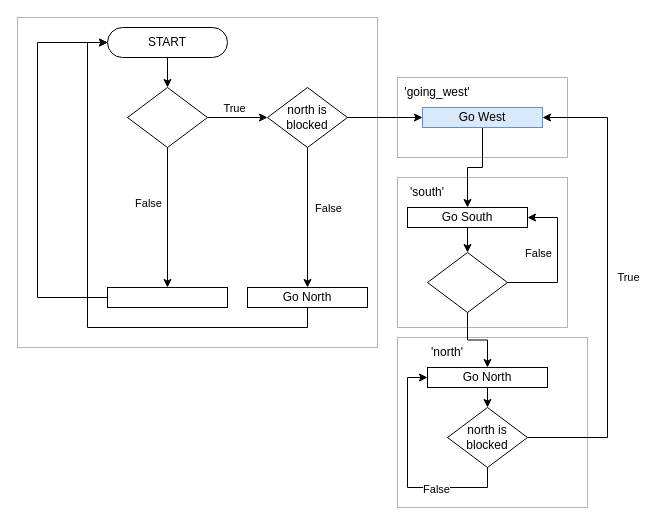
The diagram is 656 pixels wide and 525 high, and some of its shapes have lost their labels. Each missing label, with the centre of its shape:
"east is blocked" goes at (x=167, y=117).
"Go East" goes at (x=167, y=297).
"south is blocked" goes at (x=467, y=282).
